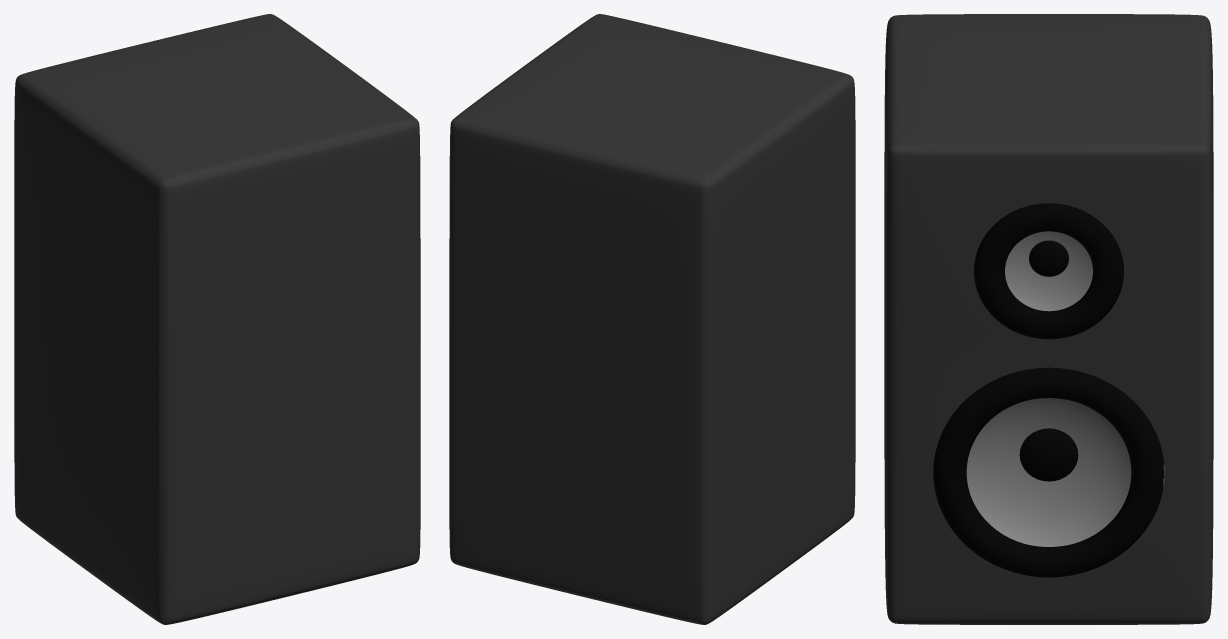
Rendered from speaker.glb.
The picture shows the model from 3 angles, left to right: view 1: azimuth 30°, elevation 25°; view 2: azimuth 150°, elevation 25°; view 3: azimuth 270°, elevation 25°; orthographic projection. The views are drawn at different scales.
Parts seen in each view (by area): view 1: Cube.001; view 2: Cube.001; view 3: Cube.001.
Boxes of the visible parts, x1,y1,x2,y2 form: Cube.001: [14, 14, 420, 624]; Cube.001: [449, 14, 855, 624]; Cube.001: [884, 14, 1213, 624].
Size of the model in its own units: 2.09 by 3.24 by 2.
Materials: 1 (1 with a texture image).
